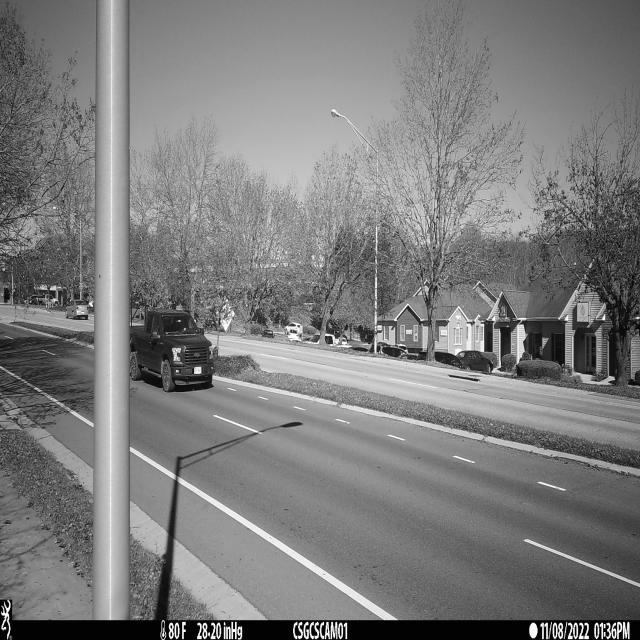Pickup: (130, 308, 213, 393)
